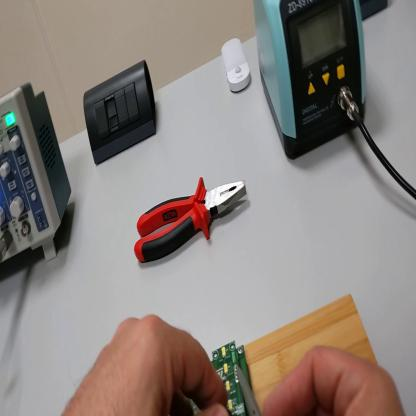hand: (64, 312, 229, 415), (262, 343, 406, 416)
low voltage board: (211, 343, 251, 415)
oscilloscope: (2, 84, 74, 262)
oscilloscope probe tip: (235, 363, 262, 415)
pliers: (136, 173, 248, 267)
socket: (361, 2, 389, 23)
welder station: (254, 3, 368, 159)
working area: (245, 293, 381, 407)
